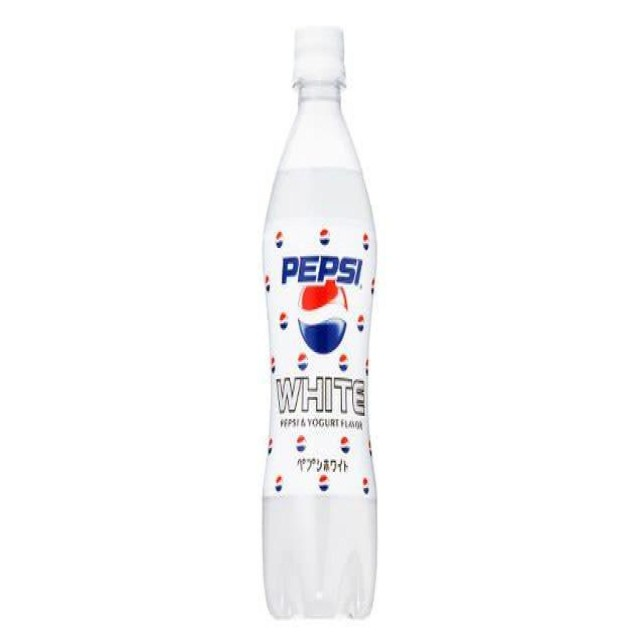pepsi: (297, 275, 348, 353)
